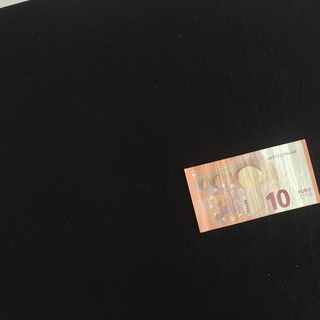10EUROBack: (183, 138, 320, 233)
